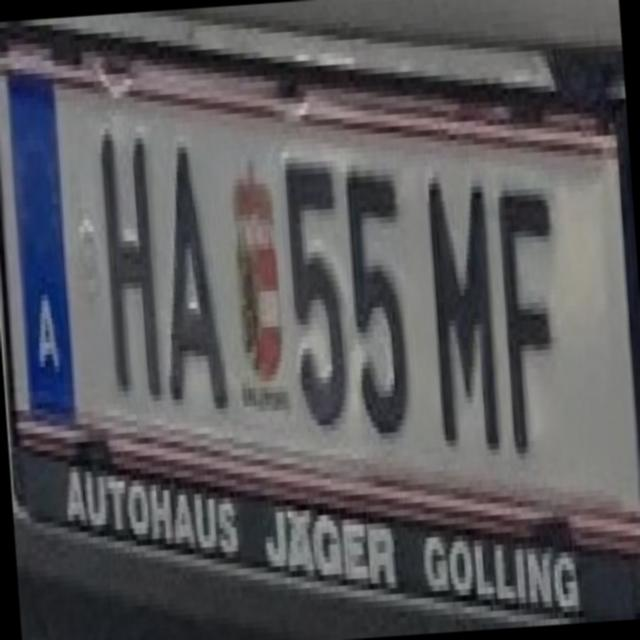5: (266, 136, 357, 427), (336, 144, 416, 428)
9: (204, 140, 294, 420)
A: (150, 127, 228, 411)
F: (487, 175, 572, 460)
H: (80, 107, 172, 404)
M: (412, 156, 502, 453)
